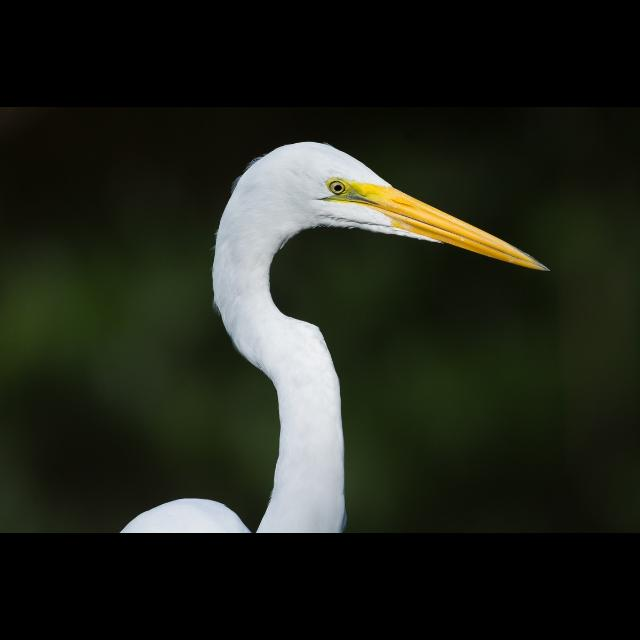egret: (106, 136, 554, 534)
